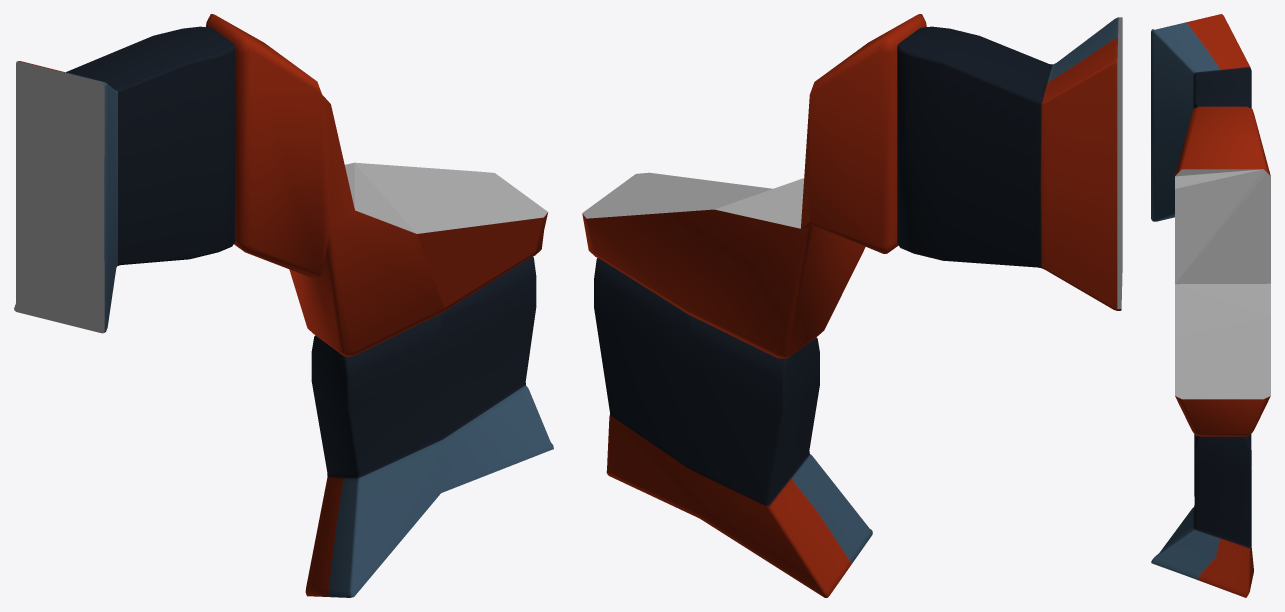
File: Assist_feizhua01_sunhuai.FBX
3 views of the same model, side by side, from view 1: azimuth 30°, elevation 25°; view 2: azimuth 150°, elevation 25°; view 3: azimuth 270°, elevation 25° (orthographic). The views are drawn at different scales.
Parts seen in each view (by area): view 1: Assist_feizhua01_sunhuai; view 2: Assist_feizhua01_sunhuai; view 3: Assist_feizhua01_sunhuai.
Part boxes in pixels (x1=…): Assist_feizhua01_sunhuai: x1=14, y1=14, x2=553, y2=597; Assist_feizhua01_sunhuai: x1=582, y1=14, x2=1122, y2=597; Assist_feizhua01_sunhuai: x1=1151, y1=14, x2=1270, y2=597.
Bounding box in the file's own units: 0.744 × 0.8416 × 0.1963.
Materials: 1 (1 with a texture image).
